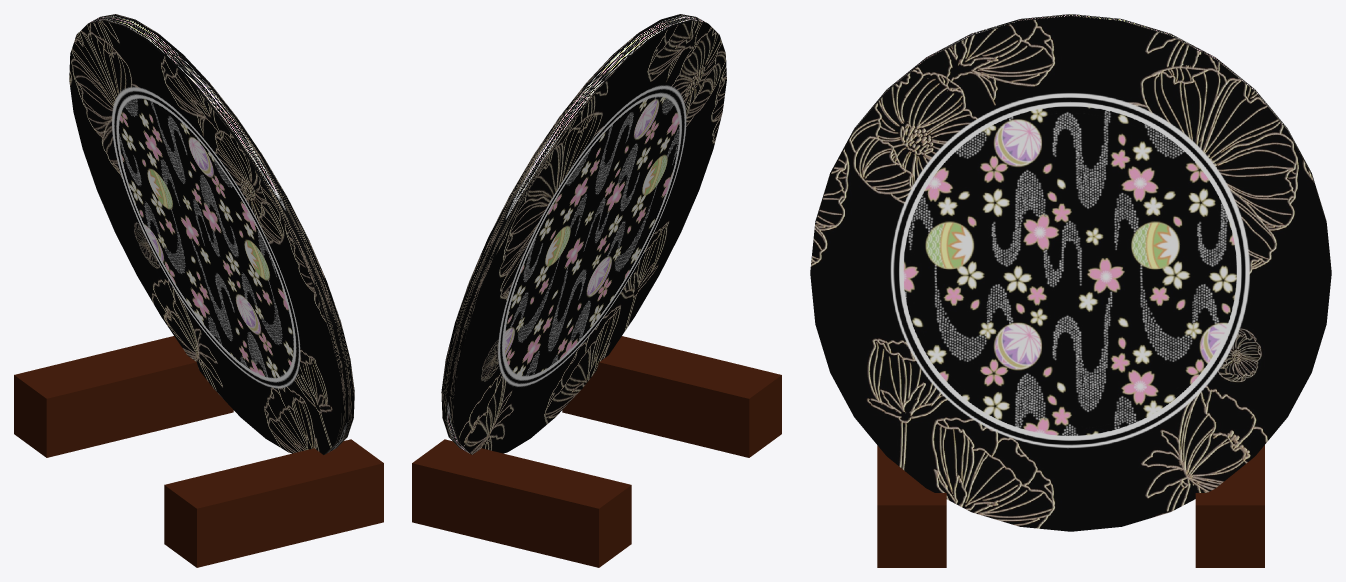
Rendered from sushi_plate.fbx.
3 views of the same model, side by side, from view 1: azimuth 30°, elevation 25°; view 2: azimuth 150°, elevation 25°; view 3: azimuth 270°, elevation 25° (orthographic). The views are drawn at different scales.
Parts seen in each view (by area): view 1: 立方体.001; view 2: 立方体.001; view 3: 立方体.001.
Boxes of the visible parts, bbox=[...] form: 立方体.001: bbox=[14, 14, 383, 567]; 立方体.001: bbox=[412, 14, 781, 567]; 立方体.001: bbox=[810, 14, 1331, 567].
Bounding box in the file's own units: 87.79 × 204 × 200.
Materials: 2 (1 with a texture image).
